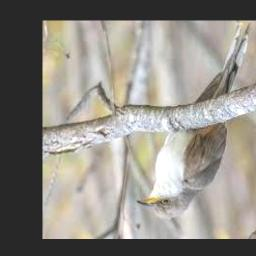Cuckoo: (135, 23, 251, 218)
